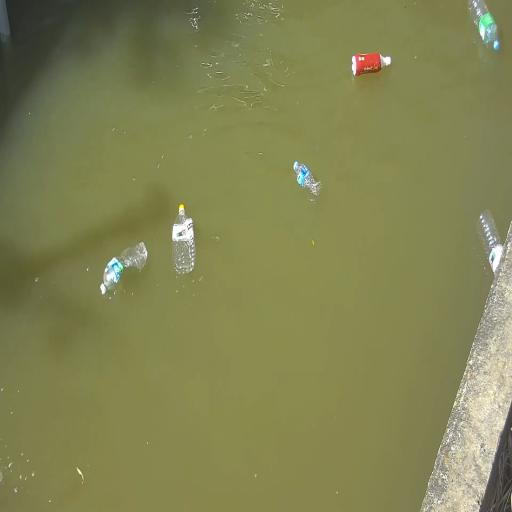plastic: (100, 242, 147, 294), (172, 204, 196, 278), (478, 210, 504, 275), (294, 161, 321, 196), (352, 54, 391, 76)
